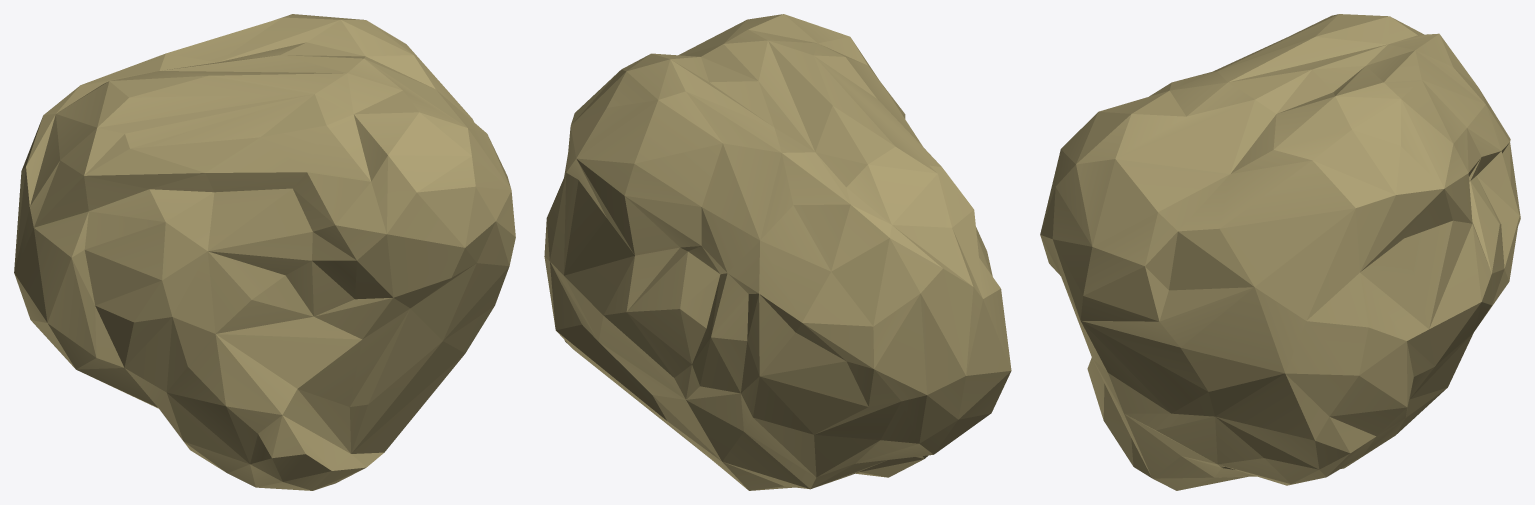
Rendered from SM_rock_26.fbx.
The picture shows the model from 3 angles, left to right: view 1: azimuth 30°, elevation 25°; view 2: azimuth 150°, elevation 25°; view 3: azimuth 270°, elevation 25°; orthographic projection. The views are drawn at different scales.
Visible parts, largest first — view 1: rock_26; view 2: rock_26; view 3: rock_26.
Part boxes in pixels (x1=…): rock_26: x1=14, y1=14, x2=515, y2=490; rock_26: x1=544, y1=14, x2=1011, y2=490; rock_26: x1=1040, y1=14, x2=1520, y2=490.
Size of the model in its own units: 227 by 204 by 201.
